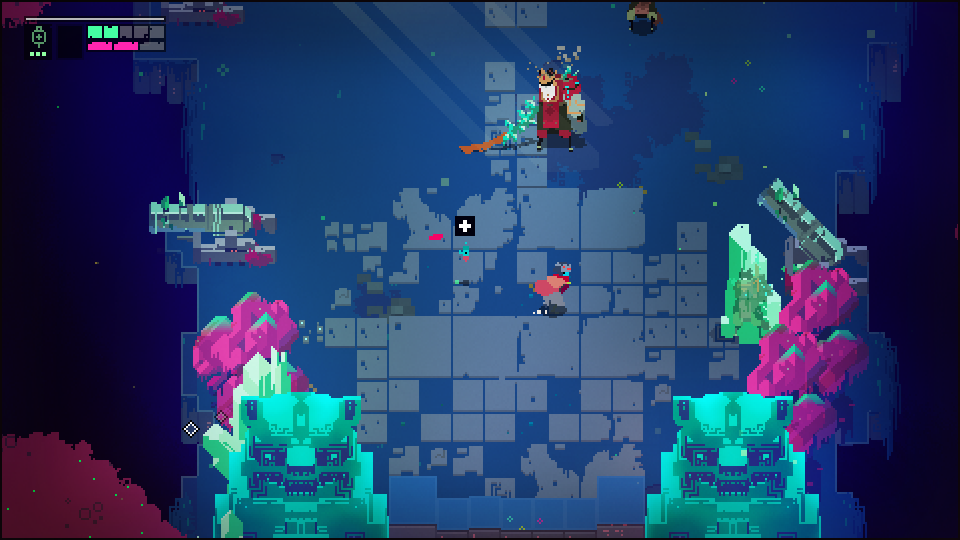hanged_man: (501, 64, 595, 152)
player: (539, 270, 575, 312)
